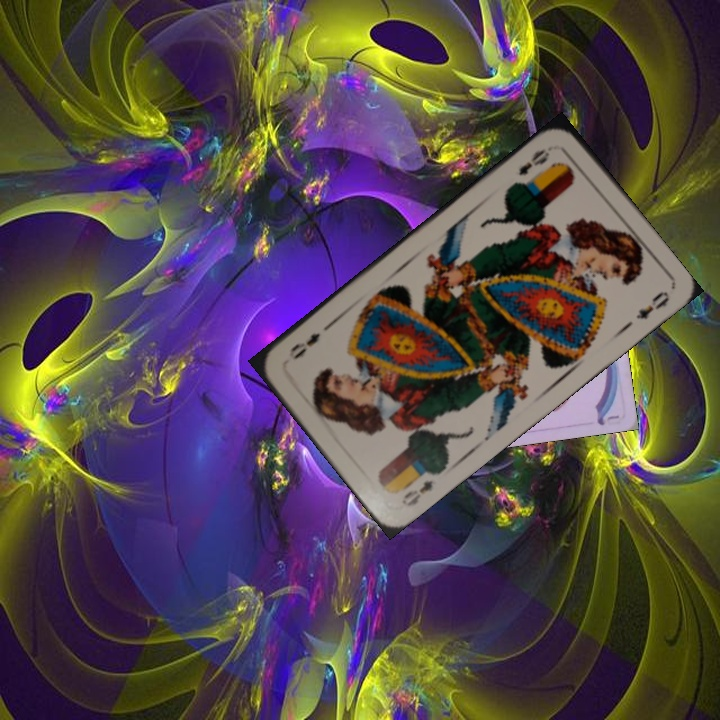EO: (514, 144, 552, 179), (397, 476, 436, 510)
